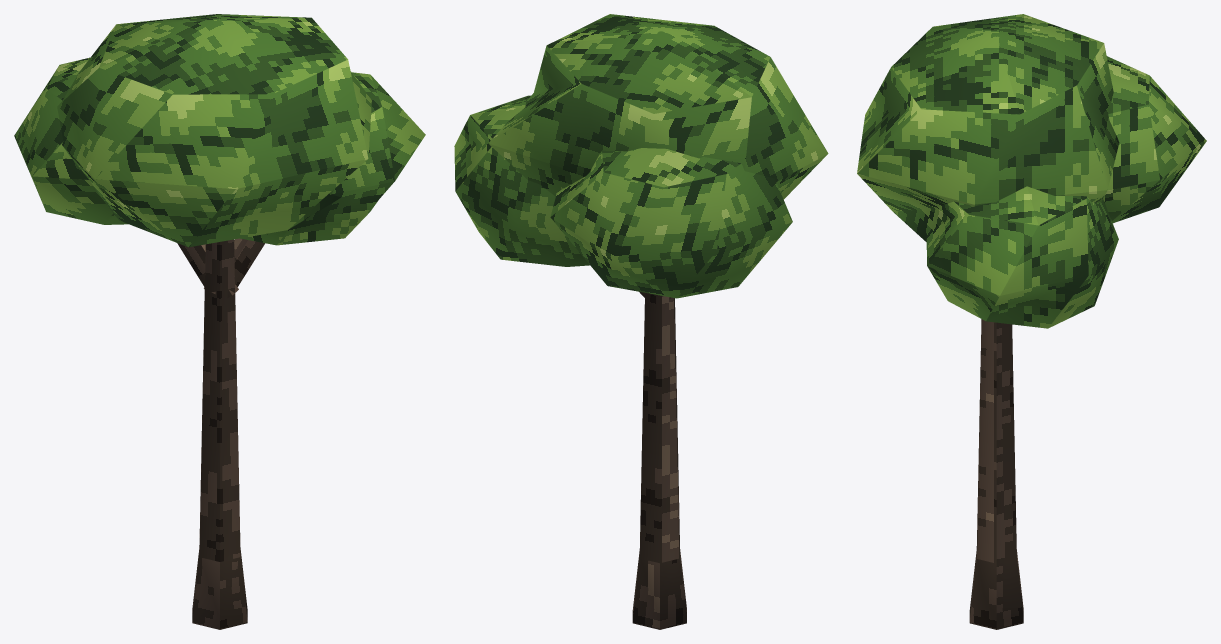
Rendered from mnat.oak__young.glb.
3 renders of one model, left to right at view 1: azimuth 30°, elevation 25°; view 2: azimuth 150°, elevation 25°; view 3: azimuth 270°, elevation 25°, orthographic. The views are drawn at different scales.
Visible parts, largest first — view 1: kit_crown, kit_trunk; view 2: kit_crown, kit_trunk; view 3: kit_crown, kit_trunk.
Boxes of the visible parts, bbox=[...] form: kit_crown: bbox=[14, 14, 425, 247]; kit_trunk: bbox=[177, 238, 264, 629]; kit_crown: bbox=[454, 14, 828, 298]; kit_trunk: bbox=[632, 291, 686, 629]; kit_crown: bbox=[857, 14, 1206, 328]; kit_trunk: bbox=[969, 319, 1023, 629].
Size of the model in its own units: 2.4 by 3.7 by 2.02.
2 materials, 2 textured.
